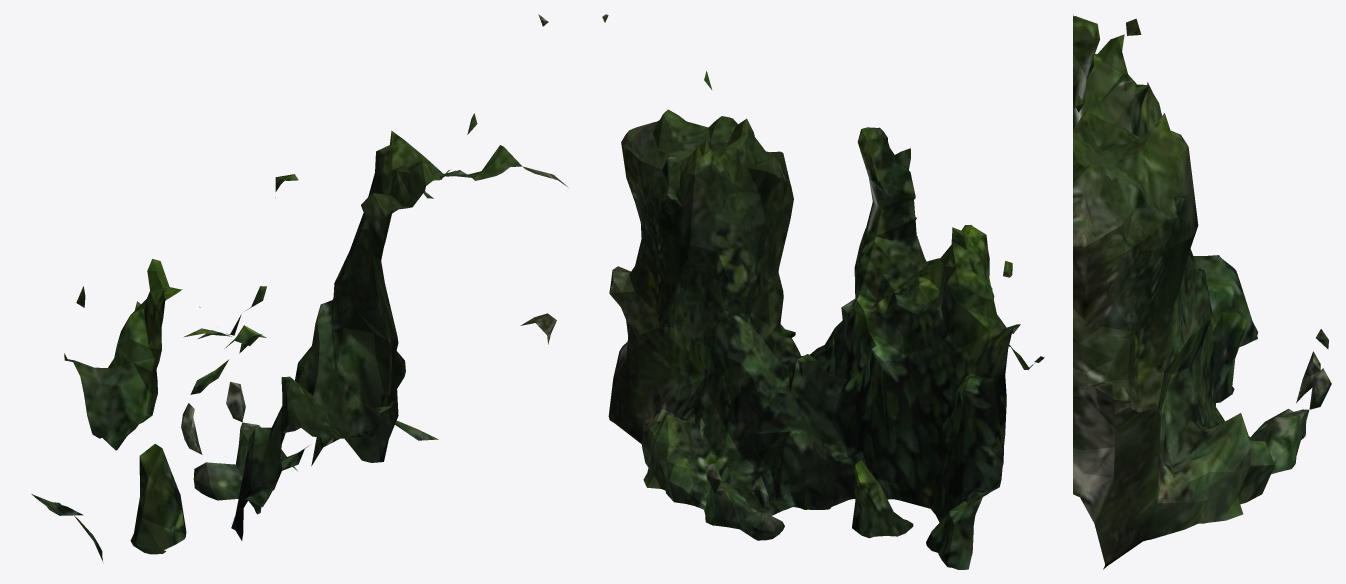
3 views of the same model, side by side, from view 1: azimuth 30°, elevation 25°; view 2: azimuth 150°, elevation 25°; view 3: azimuth 270°, elevation 25° (orthographic). The views are drawn at different scales.
Size of the model in its own units: 1.67 by 1.57 by 0.7573.
Materials: 3 (3 with a texture image).
